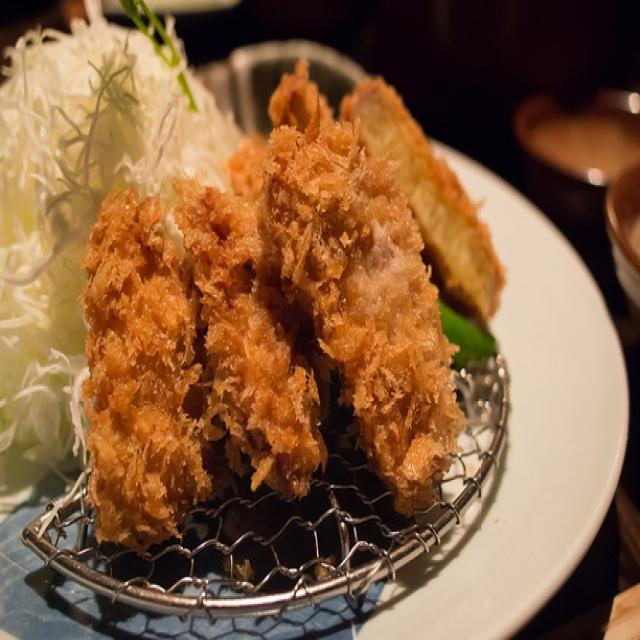牛肉菜式: (8, 9, 602, 615)
